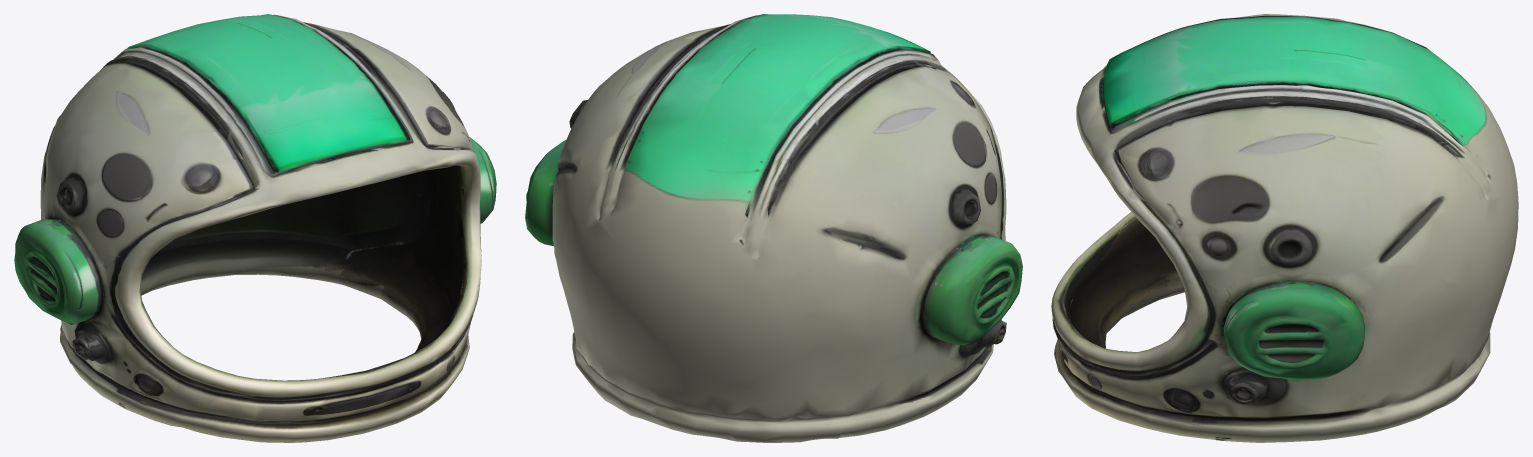
Rendered from Space-Helmet-v2.glb.
The picture shows the model from 3 angles, left to right: view 1: azimuth 30°, elevation 25°; view 2: azimuth 150°, elevation 25°; view 3: azimuth 270°, elevation 25°; orthographic projection. The views are drawn at different scales.
Visible parts, largest first — view 1: Space-Helmet-v2; view 2: Space-Helmet-v2; view 3: Space-Helmet-v2.
Boxes of the visible parts, x1,y1,x2,y2 form: Space-Helmet-v2: [14, 14, 496, 442]; Space-Helmet-v2: [525, 14, 1022, 442]; Space-Helmet-v2: [1051, 14, 1518, 442].
Size of the model in its own units: 0.6948 by 0.4796 by 0.6246.
Materials: 1 (1 with a texture image).
